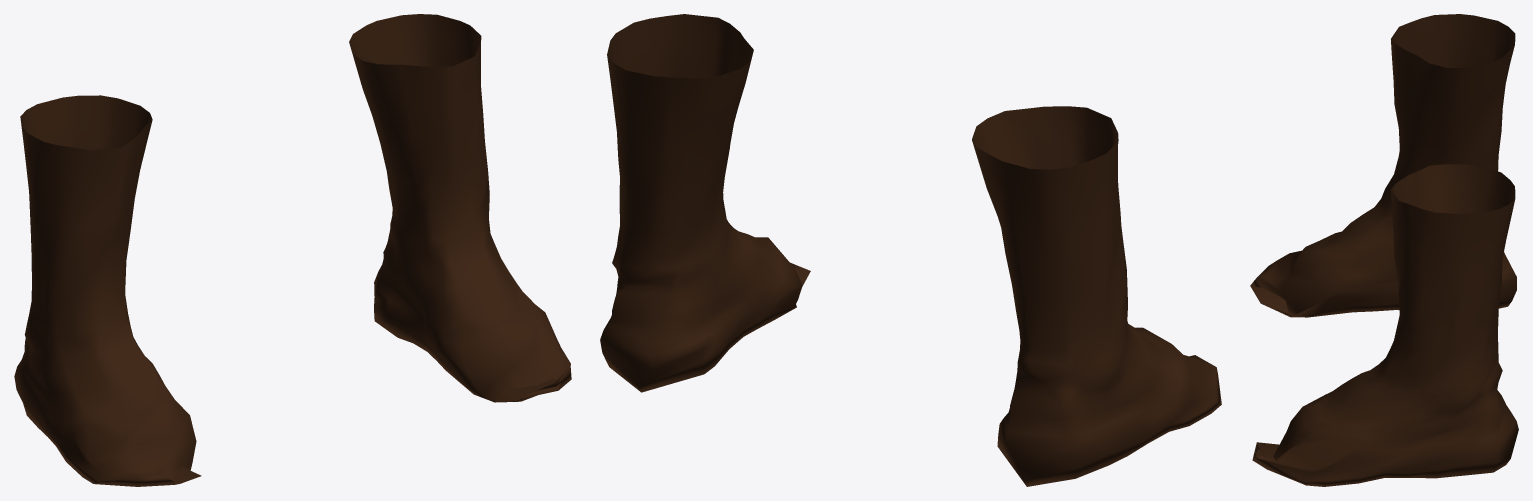
Rendered from boots.glb.
3 renders of one model, left to right at view 1: azimuth 30°, elevation 25°; view 2: azimuth 150°, elevation 25°; view 3: azimuth 270°, elevation 25°, orthographic. The views are drawn at different scales.
Parts seen in each view (by area): view 1: boots; view 2: boots; view 3: boots.
Boxes of the visible parts, box(x1,y1,x2,y2) form: boots: box(14, 14, 571, 486); boots: box(600, 14, 1221, 486); boots: box(1250, 14, 1518, 486).
Size of the model in its own units: 0.5496 by 0.3211 by 0.2863.
